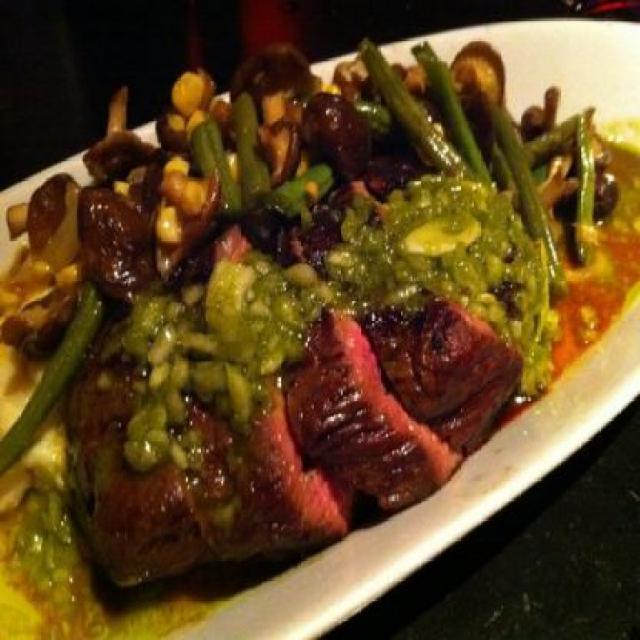Steak: (74, 242, 514, 580)
